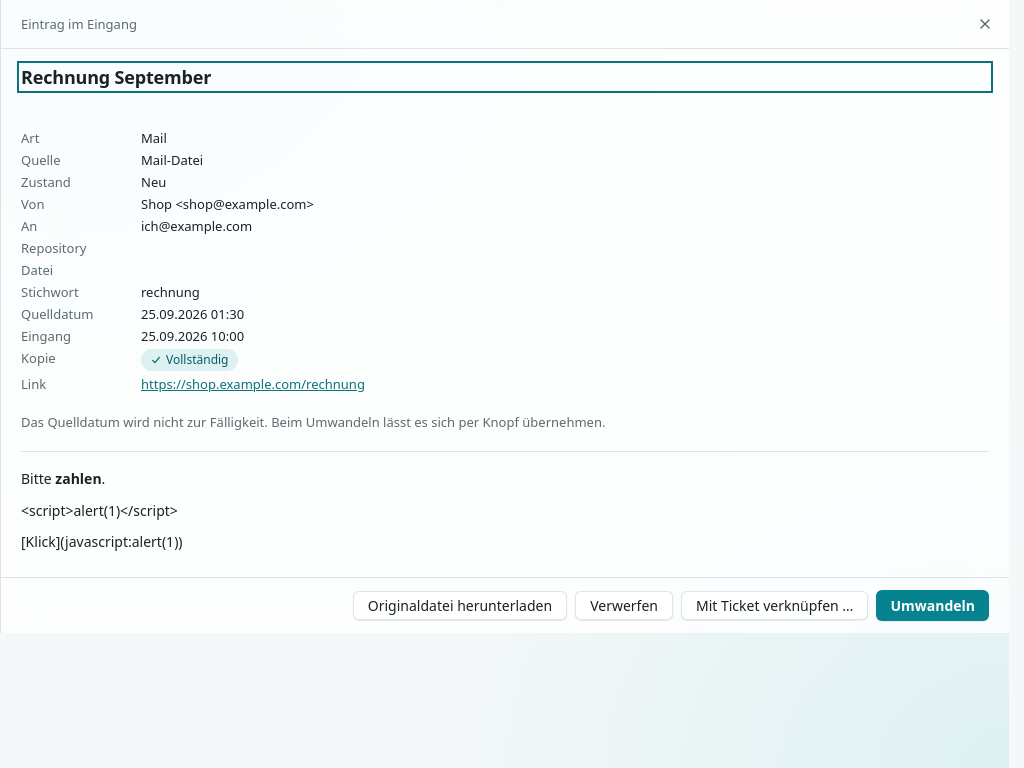
Test: inbox panel: copy and linking (ADR-0031) › links a new entry to a ticket through "Mit Ticket verknüpfen …"
Expected: the heading "Rechnung September" is shown, [21,65,211,89]
Click the button "Mit Ticket verknüpfen …" at x=775, y=606, box [681,591,868,620]
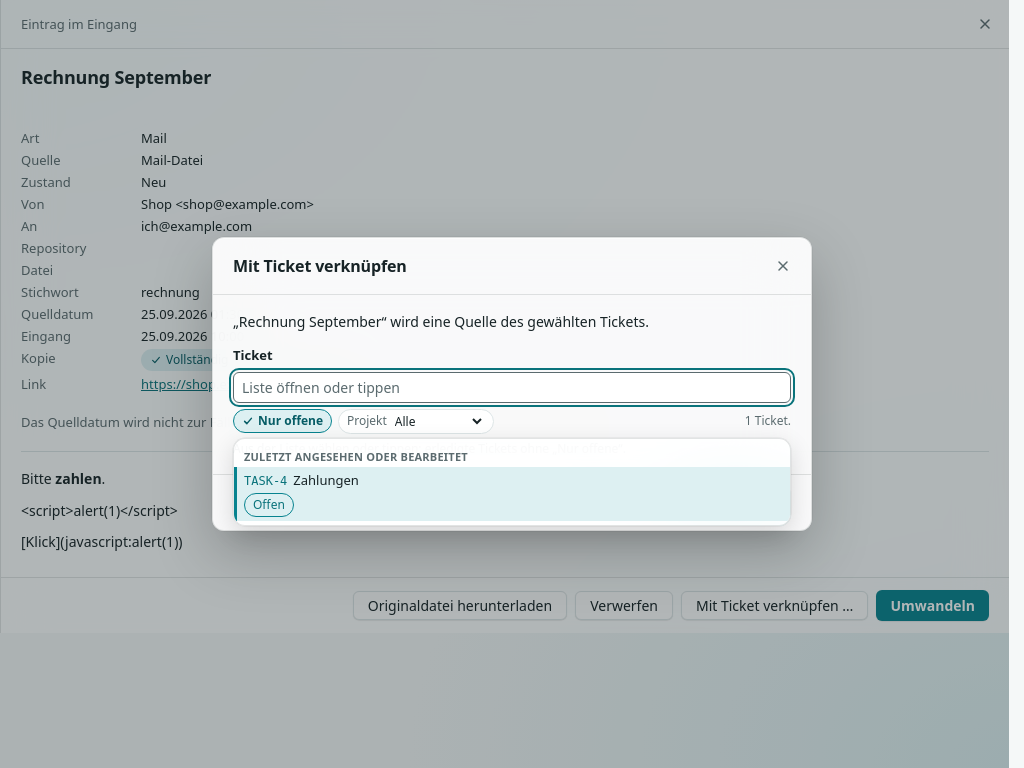
Press Enter in the dropdown labelled "Ticket", box [233,372,791,403]
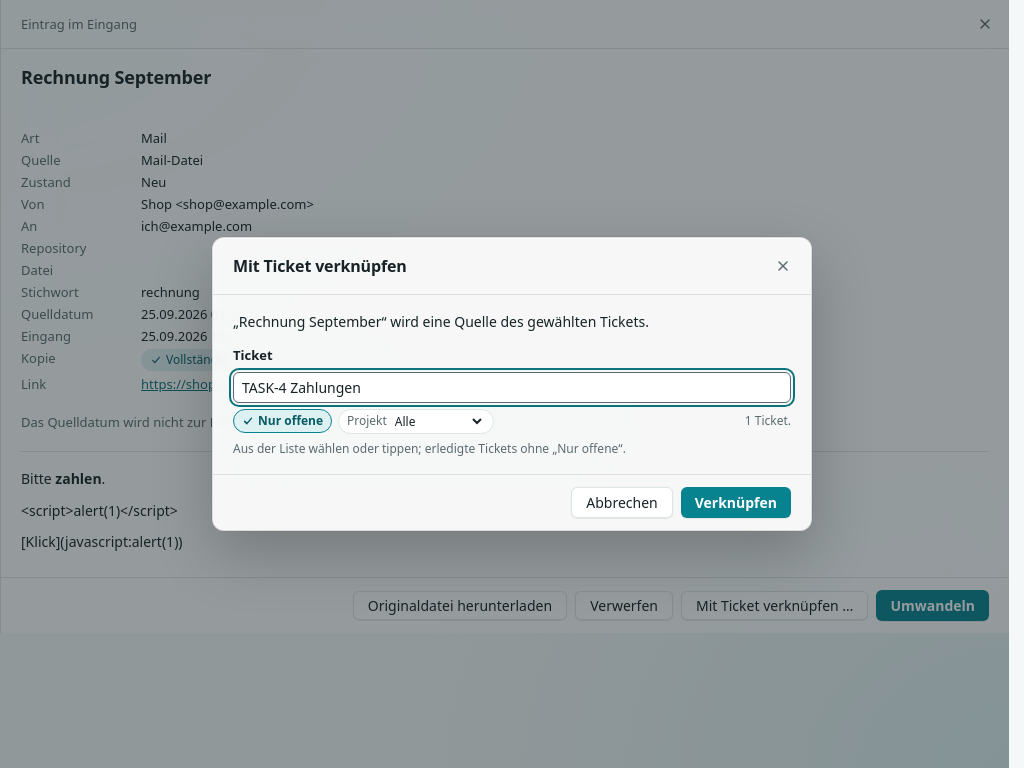
Click the button "Verknüpfen" at x=736, y=502, box [681,487,791,518]
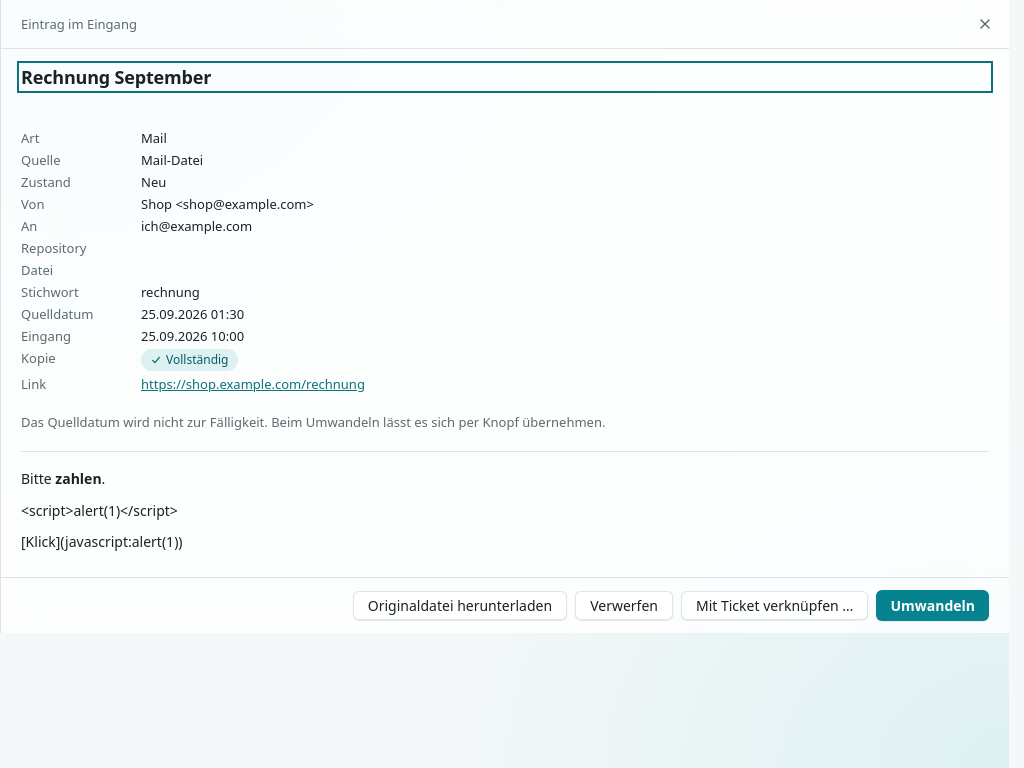
Expected: the dialog is gone
